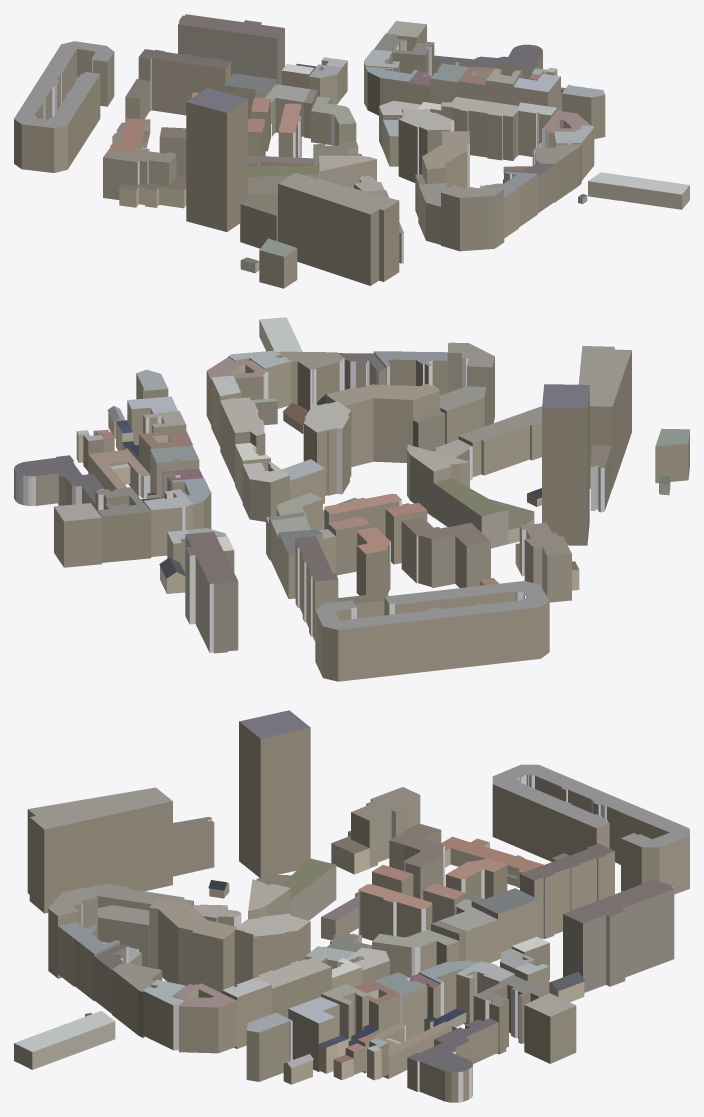
3 views of the same model, one above another, from view 1: azimuth 30°, elevation 25°; view 2: azimuth 150°, elevation 25°; view 3: azimuth 270°, elevation 25° (orthographic). The views are drawn at different scales.
Parts seen in each view (by area): view 1: tuile; view 2: tuile; view 3: tuile.
Part boxes in pixels (x1,y1,x2,y2): tuile: (14,14,689,288); tuile: (14,317,689,681); tuile: (14,710,689,1102).
Size of the model in its own units: 295 by 75.89 by 300.
